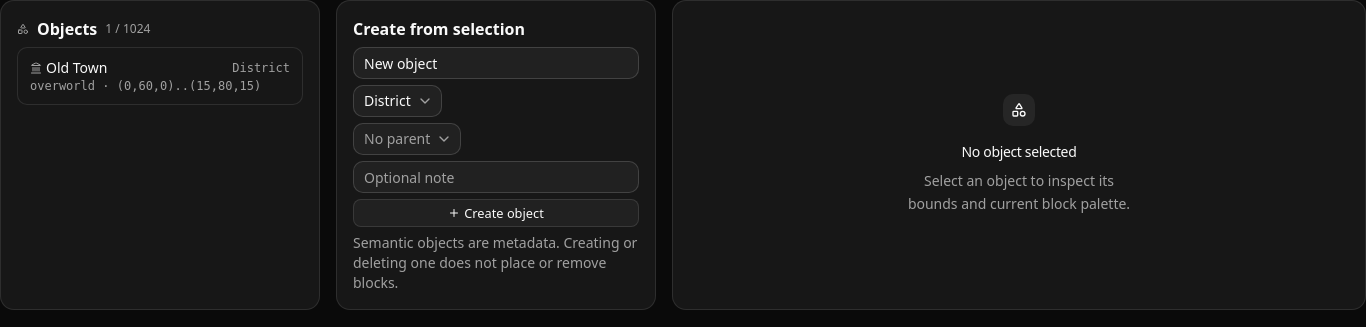
it: scene panel › creates an object from the current selection and refreshes the list
This screenshot has width=1366, height=327.
Replace the text in the field named "Object name" with "New landmark" at x=496, y=63, box [353,47,639,79]
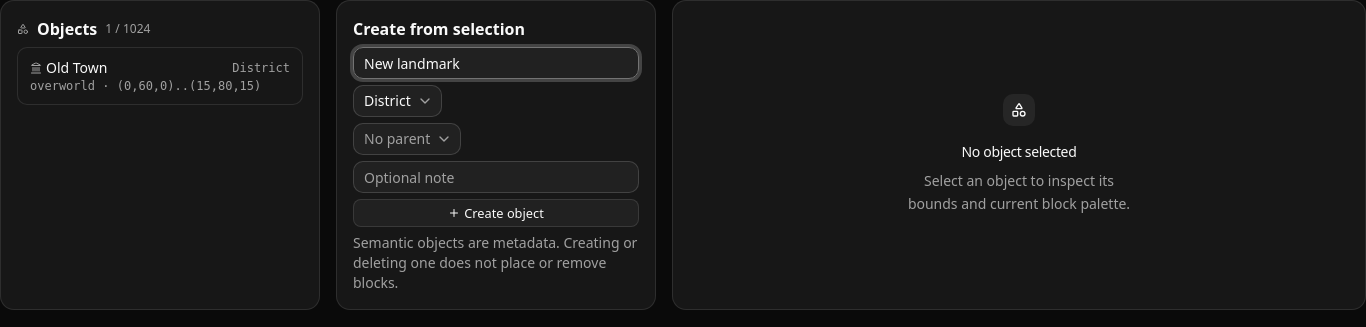
Click the dropdown named "Object kind".
click(397, 101)  # box [353,85,442,117]
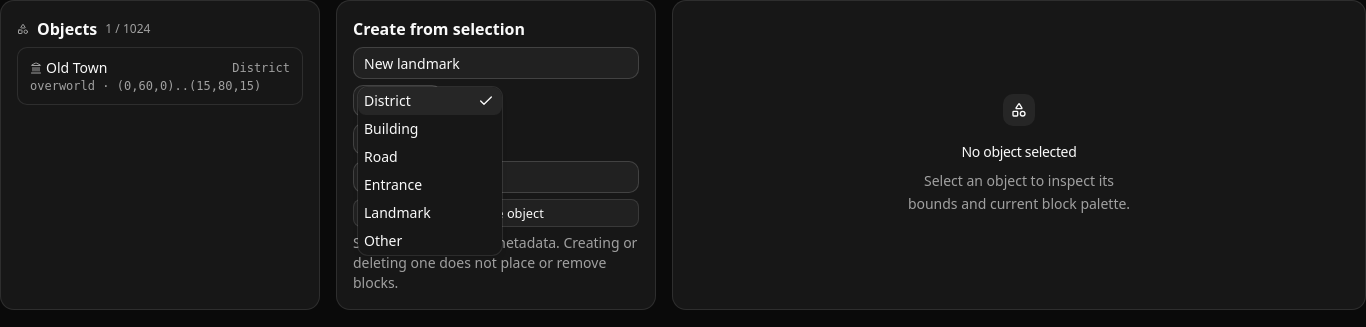
Click the option "Landmark".
click(397, 212)  # box [364,203,431,222]
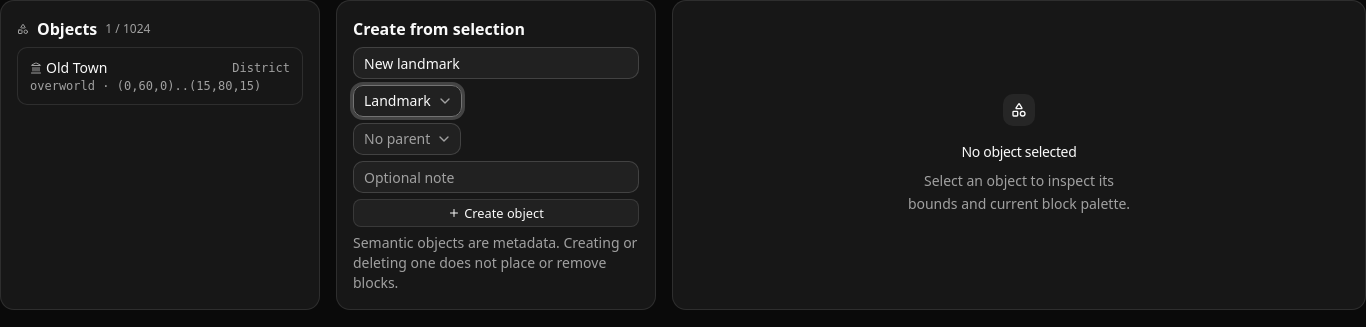
Click the button "Create object".
click(496, 213)  # box [353,199,639,227]
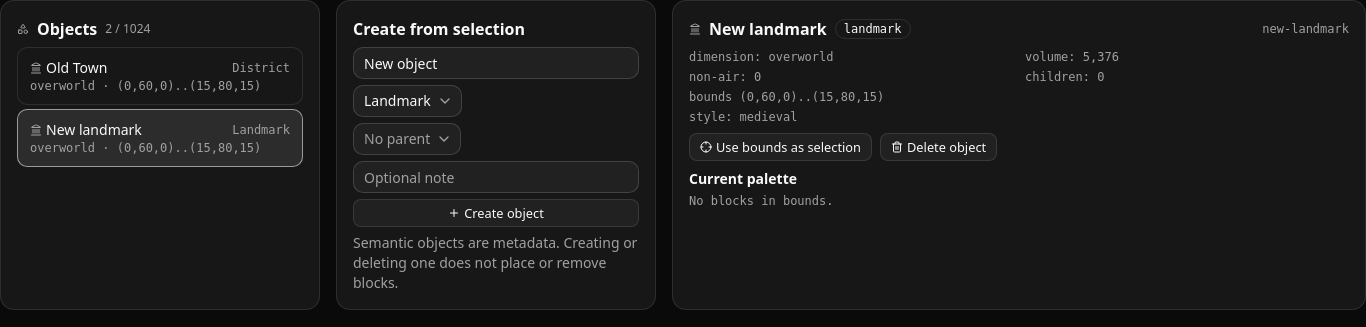
Result: the text "New landmark" below "/ 1024" is shown at [46,120,142,139]
